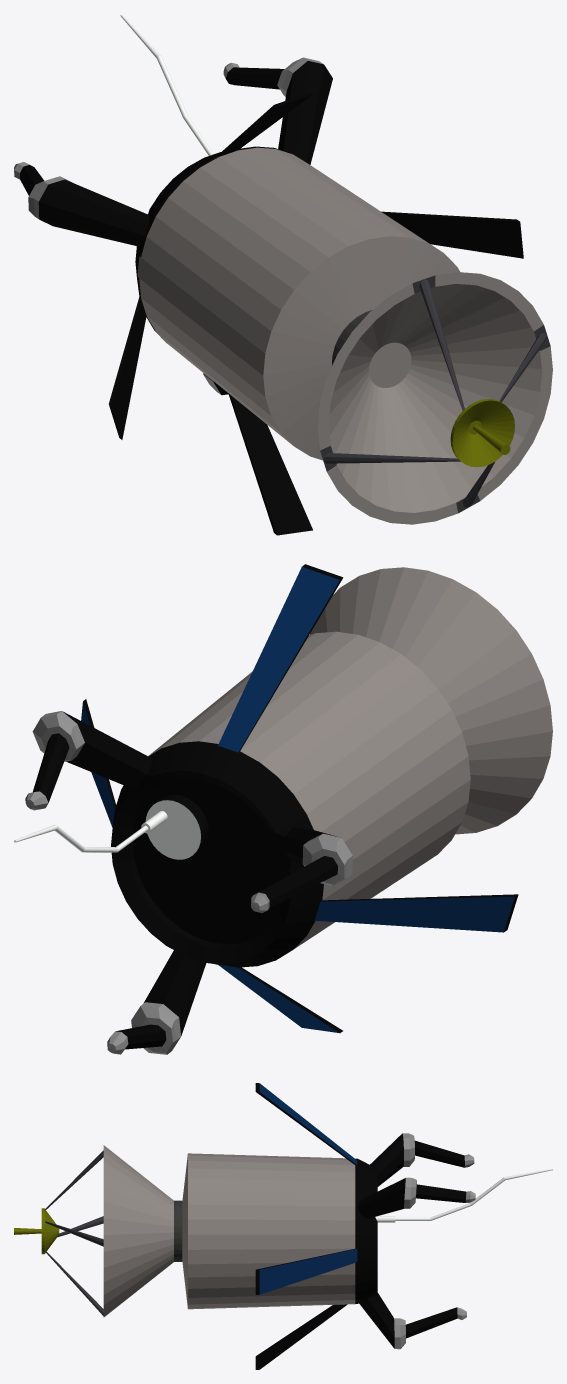
The model's file is Sonde.fbx.
The picture shows the model from 3 angles, top to bottom: view 1: azimuth 30°, elevation 25°; view 2: azimuth 150°, elevation 25°; view 3: azimuth 270°, elevation 25°; orthographic projection. The views are drawn at different scales.
Visible parts, largest first — view 1: Cylinder; view 2: Cylinder; view 3: Cylinder.
Boxes of the visible parts, x1,y1,x2,y2 form: Cylinder: (14,14,552,535); Cylinder: (14,564,552,1054); Cylinder: (14,1083,552,1369).
Bounding box in the file's own units: 454 × 459 × 807.
